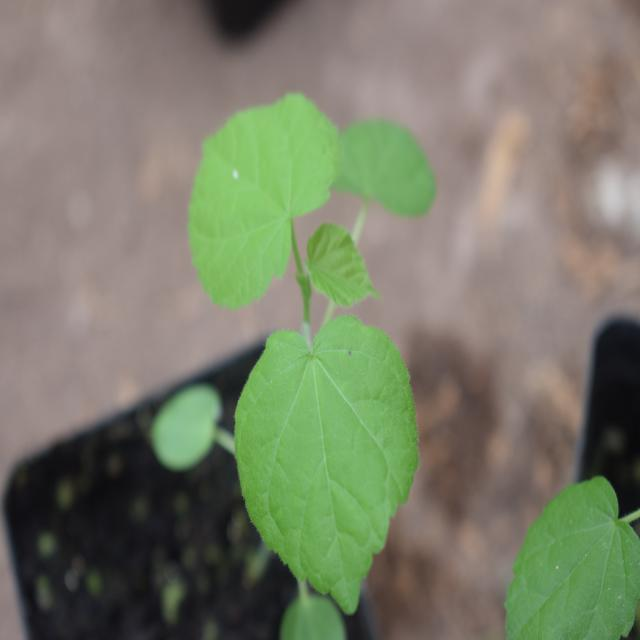abutilon theophrasti: (145, 86, 446, 589)
